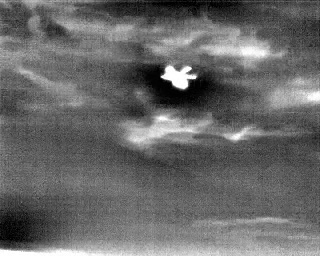HELICOPTER: (158, 60, 202, 95)
